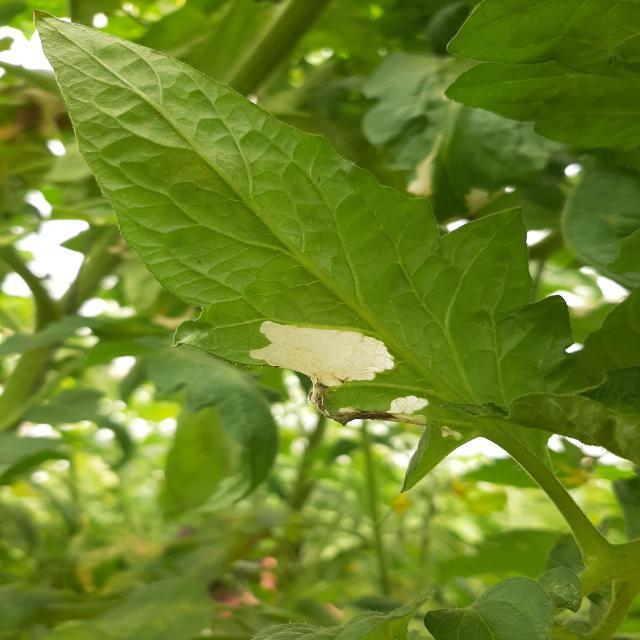Tuta absoluta: (244, 311, 409, 401)
